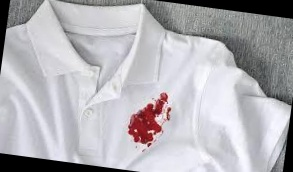blood: (125, 88, 174, 150)
